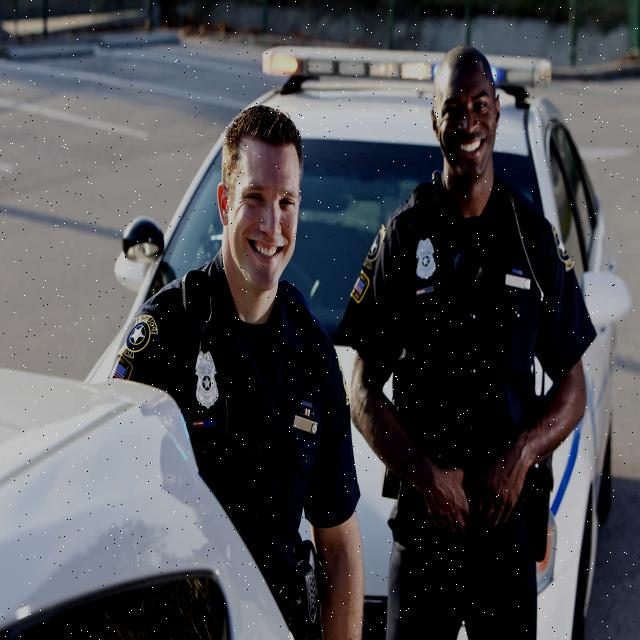police: (347, 28, 588, 640), (133, 63, 344, 640)
